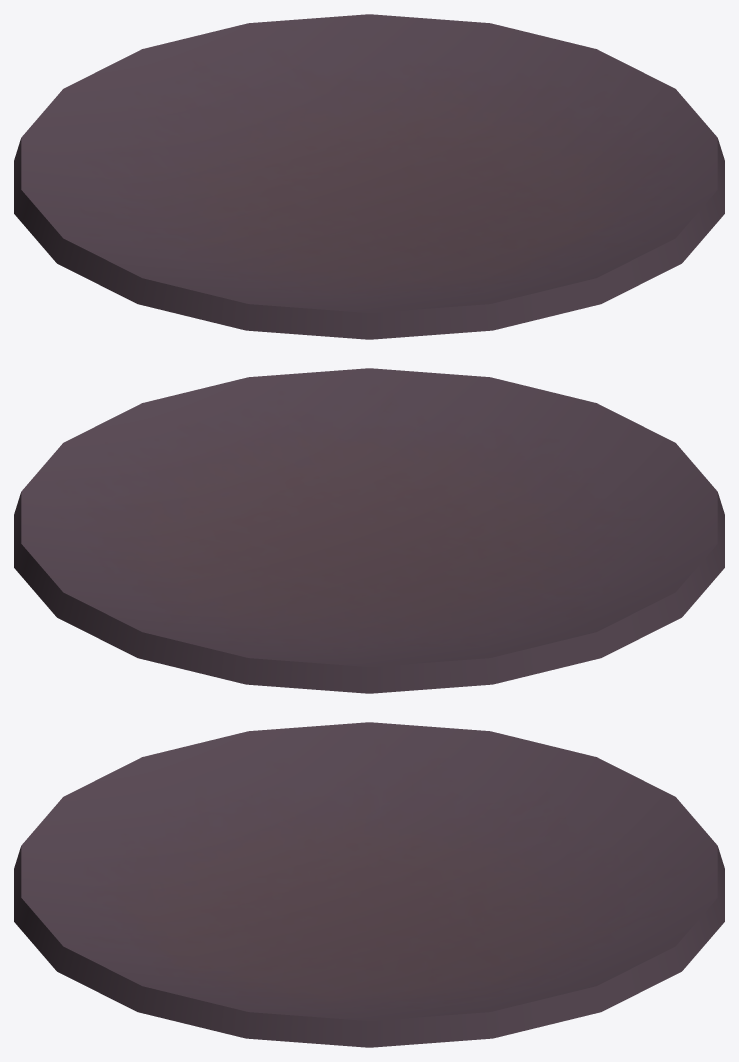
The model's file is PlateF.FBX.
The picture shows the model from 3 angles, top to bottom: view 1: azimuth 30°, elevation 25°; view 2: azimuth 150°, elevation 25°; view 3: azimuth 270°, elevation 25°; orthographic projection.
Parts seen in each view (by area): view 1: PlateF_LOD0; view 2: PlateF_LOD0; view 3: PlateF_LOD0.
Part boxes in pixels (x1,y1,x2,y2): PlateF_LOD0: (14, 14, 724, 339); PlateF_LOD0: (14, 368, 724, 693); PlateF_LOD0: (14, 722, 724, 1047).
Size of what is drawn, in the model's own units: 14.63 by 1.53 by 14.41.
